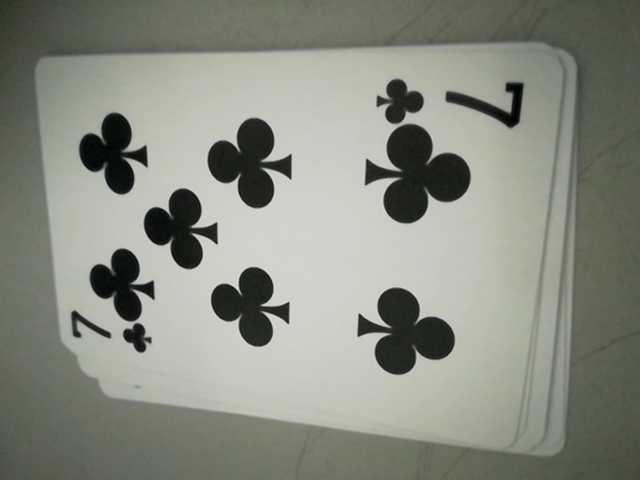mh 7: (371, 65, 529, 129), (62, 309, 153, 362)
